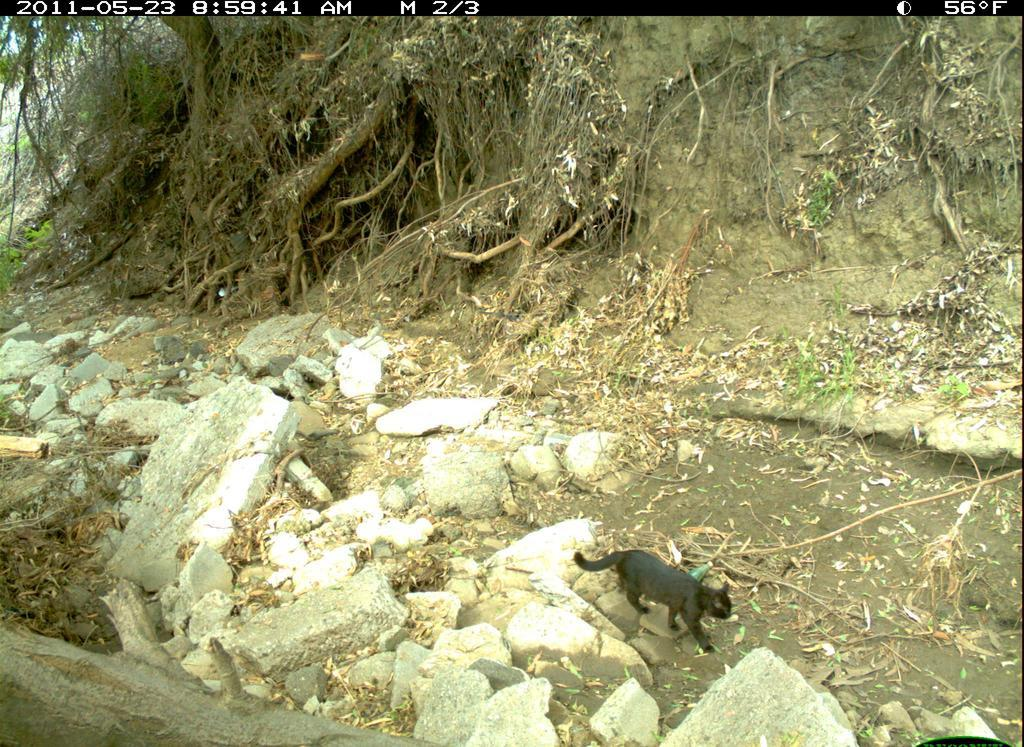cat: (560, 530, 761, 662)
